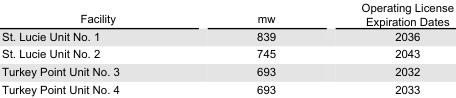table: (1, 0, 453, 95)
table column: (1, 0, 187, 95), (317, 0, 453, 95), (187, 0, 317, 95)
table column header: (1, 0, 453, 28)
table row: (1, 0, 453, 28), (1, 44, 453, 62), (1, 62, 453, 80), (1, 28, 453, 44), (1, 80, 453, 95)
